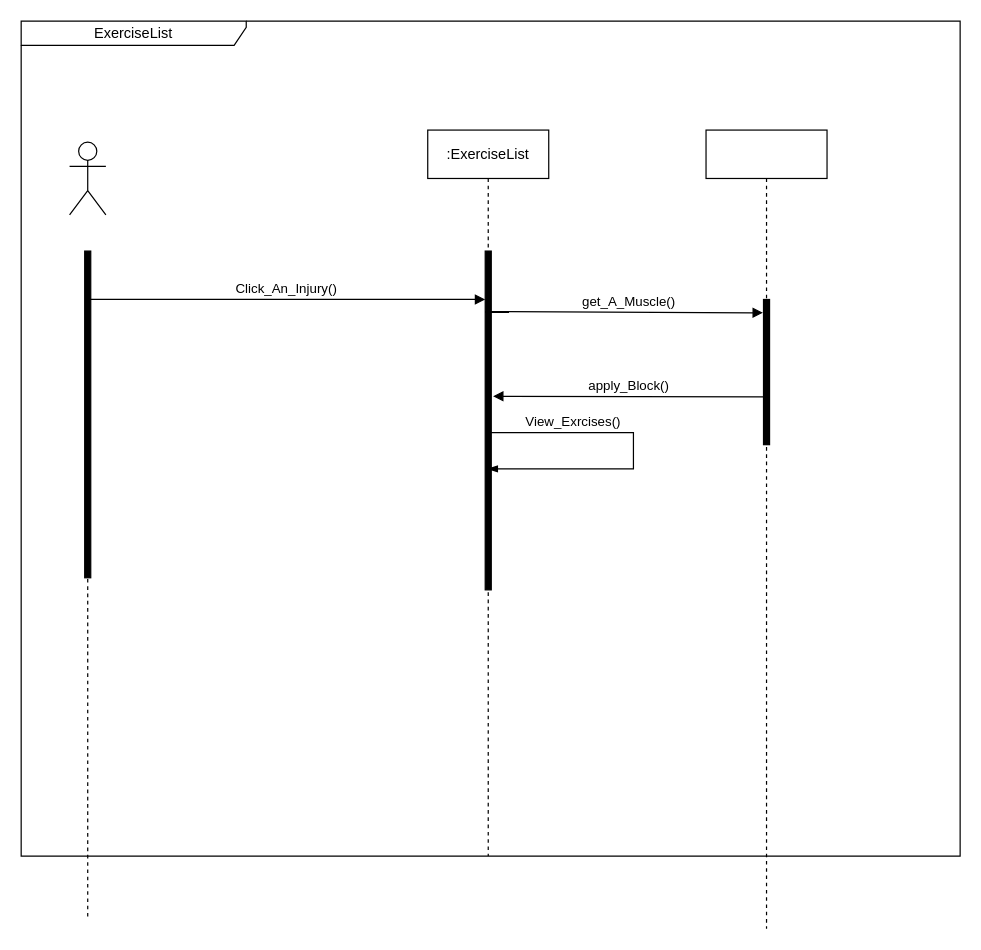
Image size: 981x950. Some labels were removed from this diagram. The shapes that lost their labels are listed below. From the top down, each one's box as (x1, y1, x2, y2) in pixels, then its label:
(68, 141, 106, 215): User
(705, 129, 827, 929): :Arm
